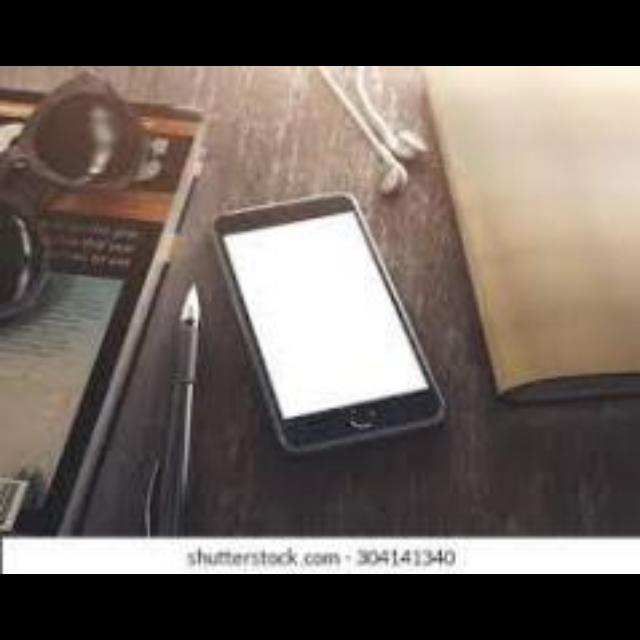Phone: (208, 194, 450, 458)
